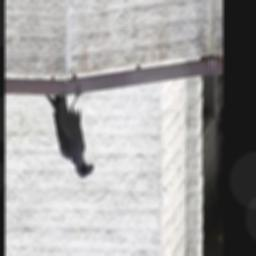Crow: (44, 76, 94, 181)
